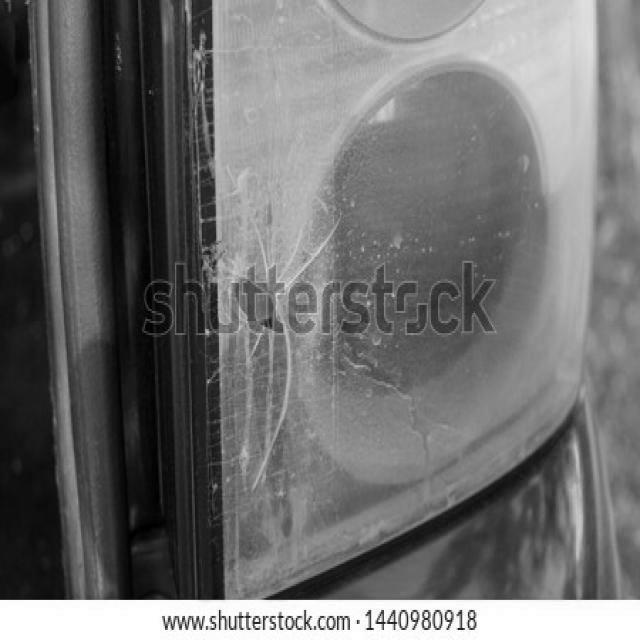Taillight-Damage: (191, 85, 371, 532)
